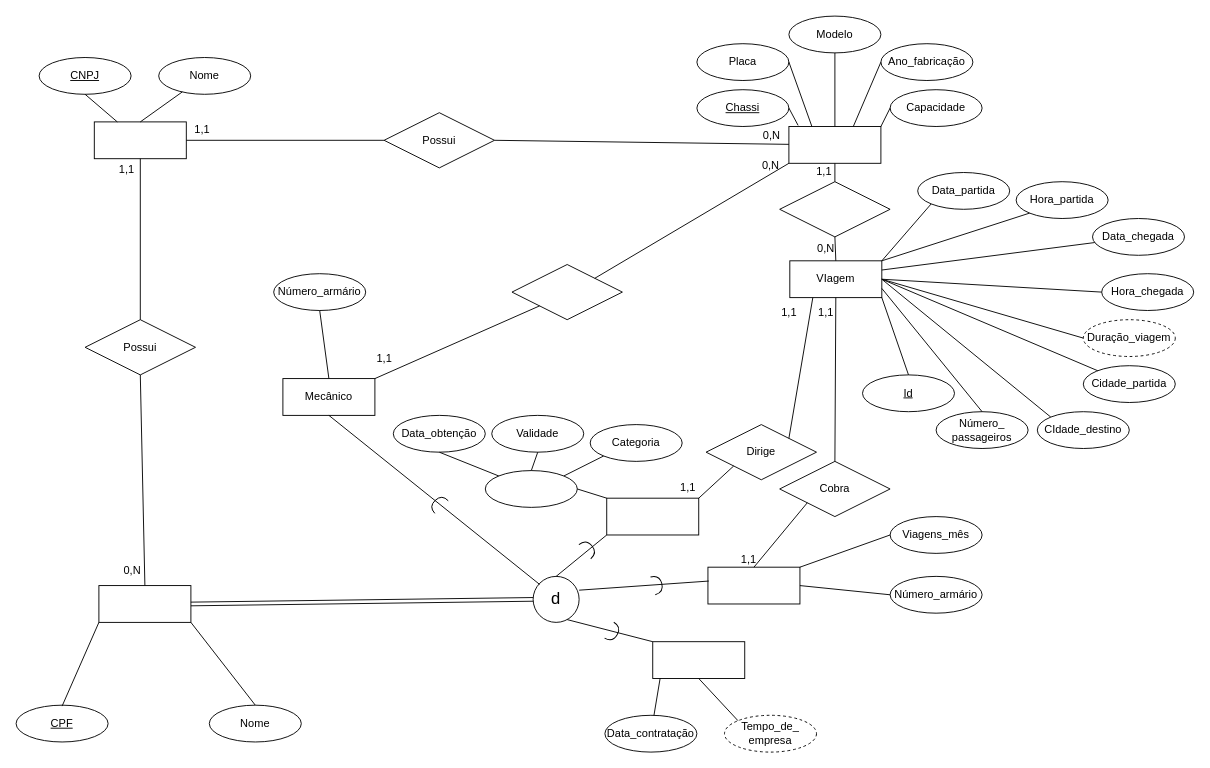
This 1210x768 diagram has some shape labels left out. Each missing label, with the centre of its shape:
"CNH" belongs at point 530,488.
"Cobrador" belongs at point 753,585.
"Funcionário" belongs at point 144,603.
"Funcionário_ administrativo" belongs at point 698,659.
"Mantém" belongs at point 566,292.
"Motorista" belongs at point 652,516.
"Realizada" belongs at point 834,209.
"Transportadora" belongs at point 139,140.
"Ônibus" belongs at point 834,144.
